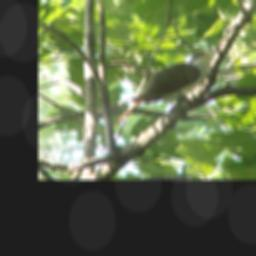Cuckoo: (112, 49, 217, 126)
